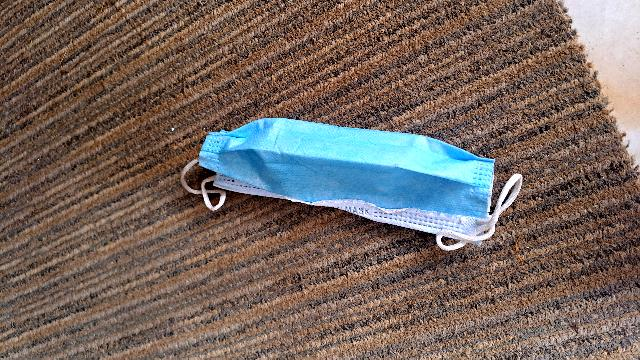mask: (200, 117, 499, 244)
